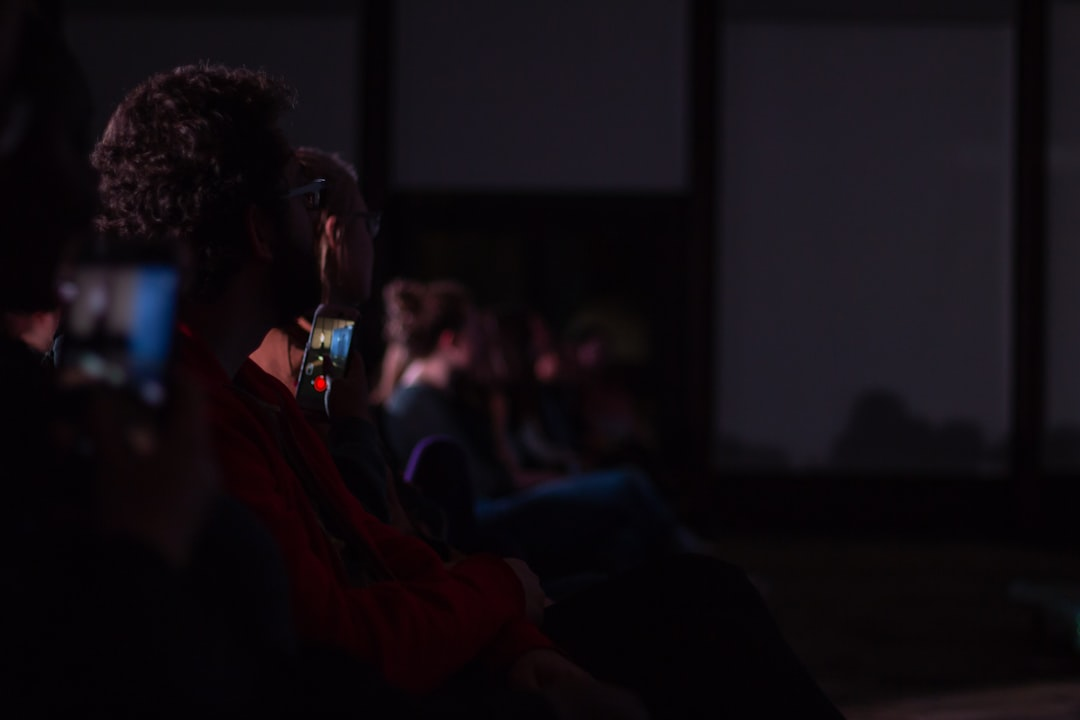phone: (293, 301, 360, 421)
